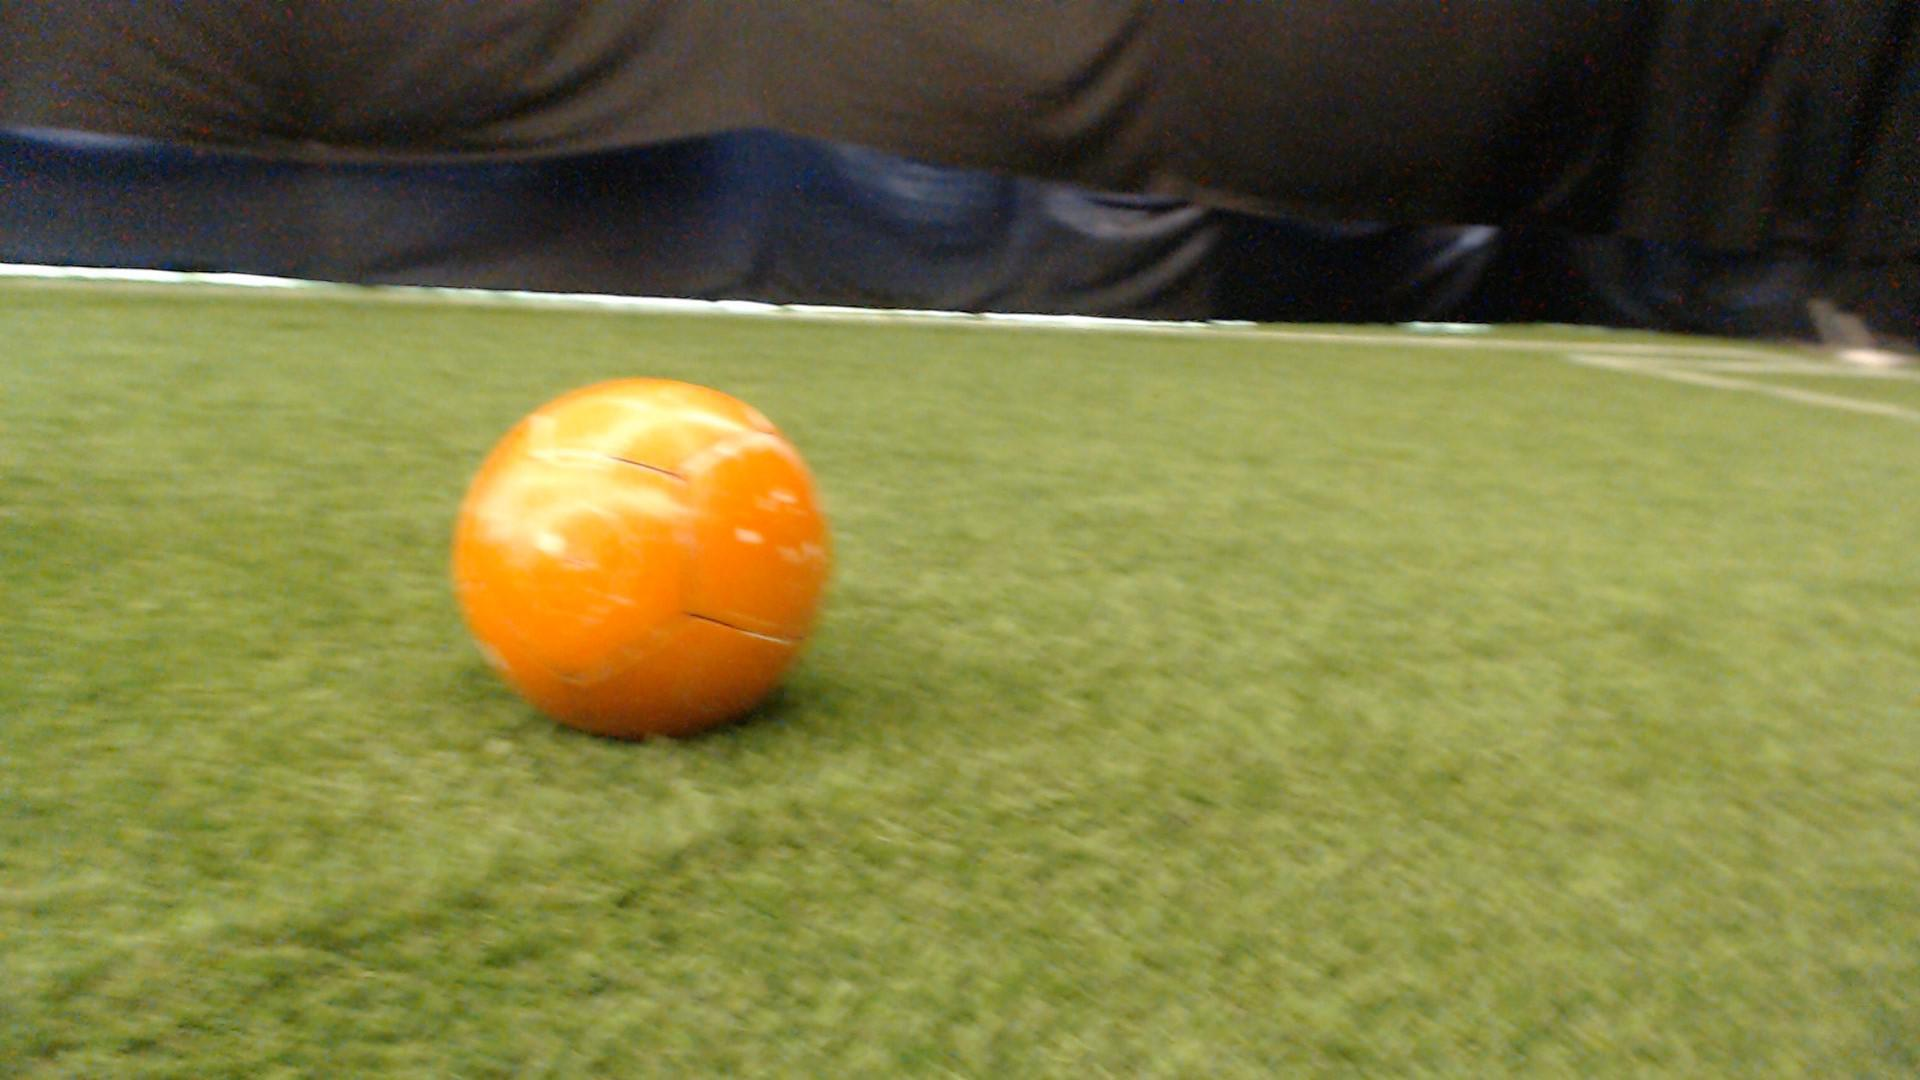bola: (415, 359, 874, 750)
